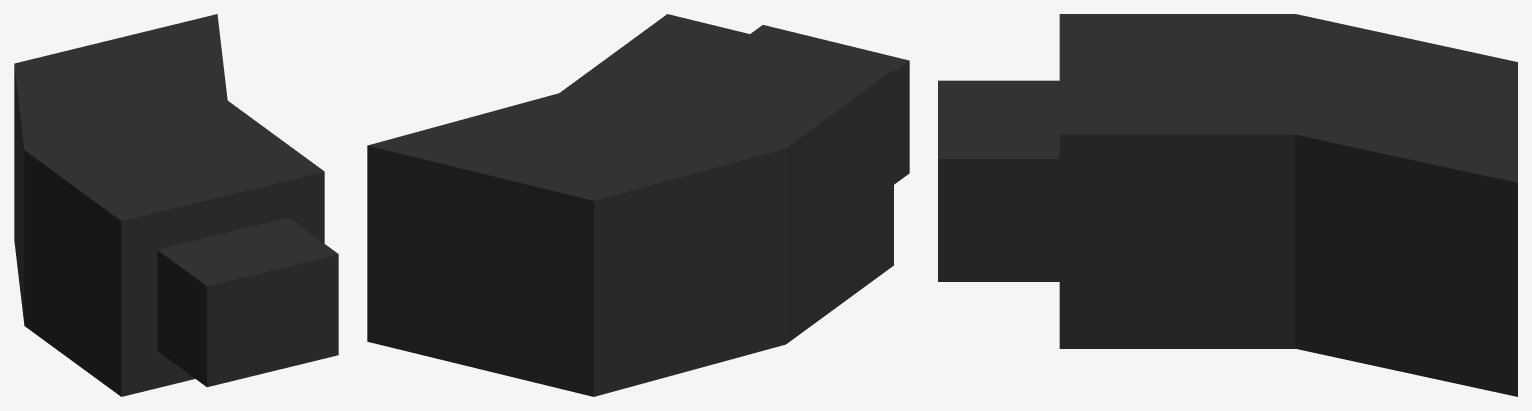
File: SMG6_04_4.fbx
3 renders of one model, left to right at view 1: azimuth 30°, elevation 25°; view 2: azimuth 150°, elevation 25°; view 3: azimuth 270°, elevation 25°, orthographic. The views are drawn at different scales.
Parts seen in each view (by area): view 1: SMG6_04_4; view 2: SMG6_04_4; view 3: SMG6_04_4.
Part boxes in pixels (x1,y1,x2,y2): SMG6_04_4: (14,14,338,396); SMG6_04_4: (367,14,909,396); SMG6_04_4: (938,14,1517,396).
Size of the model in its own units: 0.013 by 0.00767 by 0.0188.
